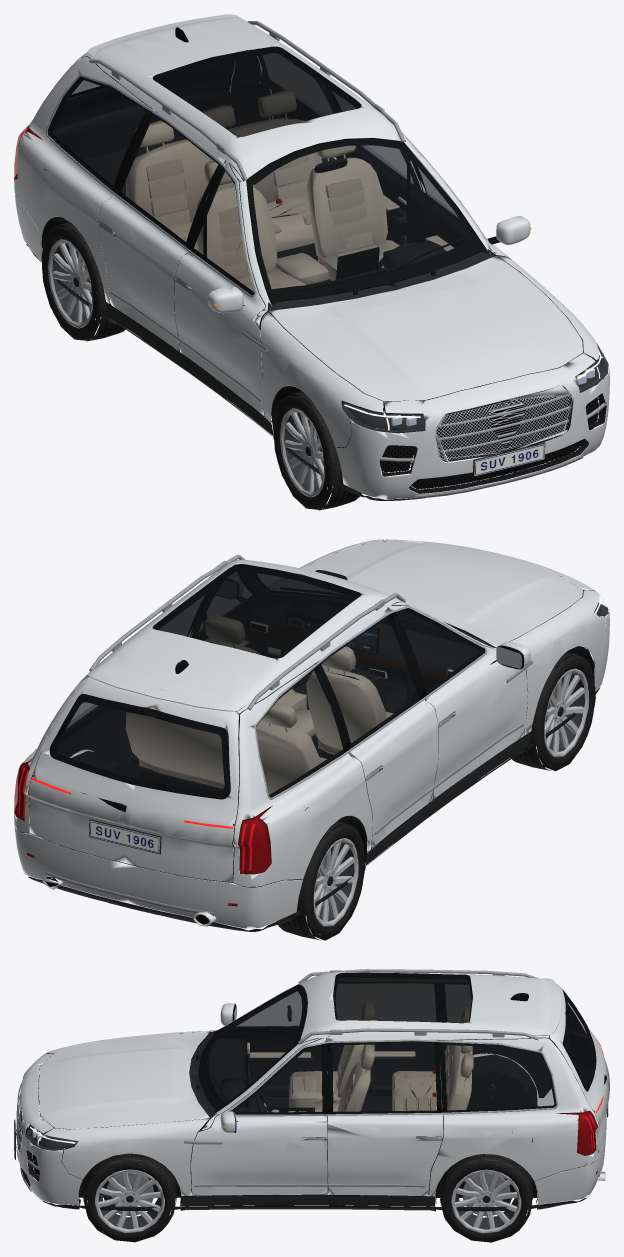
File: luxury-suv.glb
The picture shows the model from 3 angles, top to bottom: view 1: azimuth 30°, elevation 25°; view 2: azimuth 150°, elevation 25°; view 3: azimuth 270°, elevation 25°; orthographic projection. The views are drawn at different scales.
Parts seen in each view (by area): view 1: Body, Wheel_FR, Wheel_RR; view 2: Body, Wheel_RR, Wheel_FR, Steering_Wheel; view 3: Body, Wheel_RL, Wheel_FL.
Boxes of the visible parts, x1,y1,x2,y2 form: Body: (14,14,609,500); Wheel_FR: (273,391,361,510); Wheel_RR: (41,222,126,341); Body: (14,539,609,931); Wheel_RR: (276,821,365,940); Wheel_FR: (510,651,595,771); Steering_Wheel: (263,624,315,687); Body: (14,969,609,1211); Wheel_RL: (439,1154,533,1242); Wheel_FL: (83,1153,176,1242).
Size of the model in its own units: 2.35 by 1.85 by 4.96.
61 materials, 13 textured.
